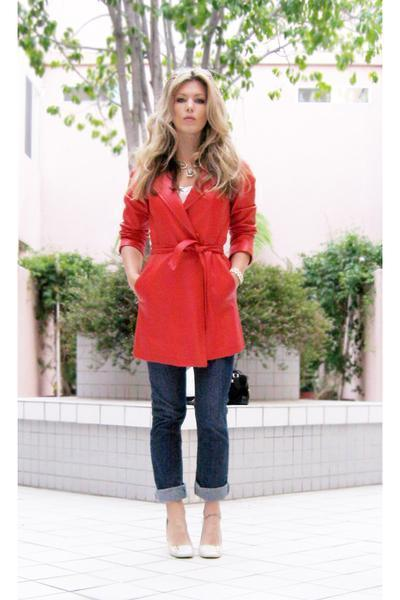jacket: (119, 174, 256, 371)
pants: (147, 355, 239, 515)
shoe: (165, 540, 216, 572)
